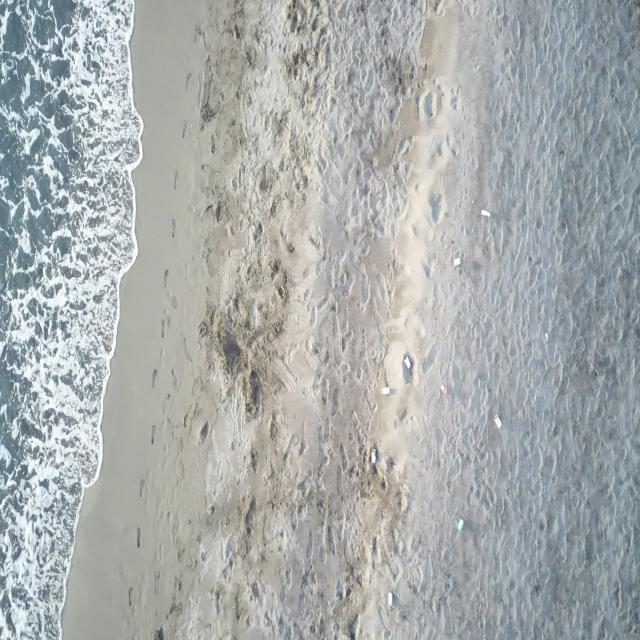tin-and-aluminum-cans: (402, 352, 412, 370), (370, 448, 378, 466), (494, 415, 502, 430), (458, 518, 465, 533), (481, 209, 492, 218), (388, 591, 393, 608), (382, 387, 391, 396), (440, 384, 448, 394), (453, 256, 461, 266)
